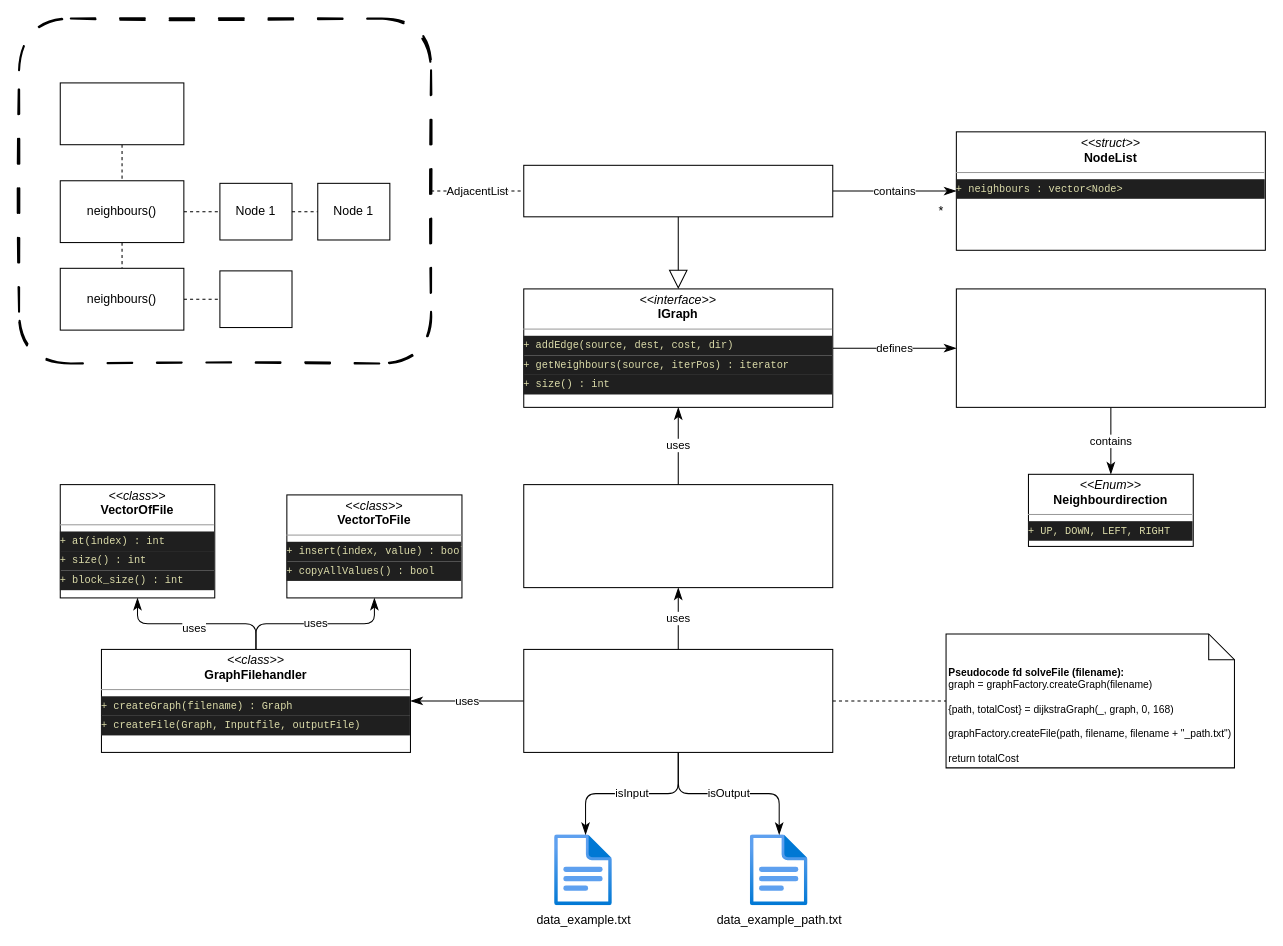
The diagram is 1283 pixels wide and 946 high, and some of its shapes have lost their labels. The centre of each missing label's shape, as x and y in pixels:
"<<class>> Algorithm + dijkstraGraph(logger, graph, startId, targetId)" goes at [678,536].
"<<class>> Day17Solver + solveFile(filename)" goes at [678,700].
"<<class>> GraphAdjacentList" goes at [678,190].
"<<struct>> Node + destinationId : int + cost : int + dir : NeighboursDirection" goes at [1110,347].
"adjList" goes at [245,36].
"adjList<NodeList>" goes at [121,113].
"Node 4" goes at [255,299].
